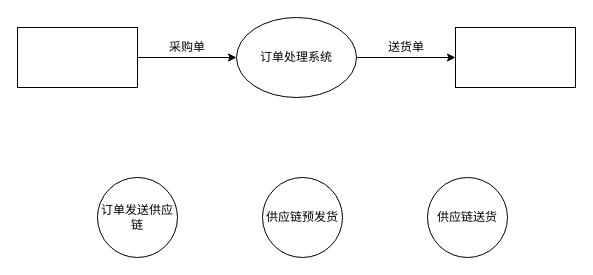
Some shapes in this 593 by 275 pixel diagram are drawn without their labels. The shapes that lost their labels are listed below. From the top down, each one's centre as x and y in pixels, then its label:
At point (77, 57): "采购员".
At point (515, 57): "库管员".
